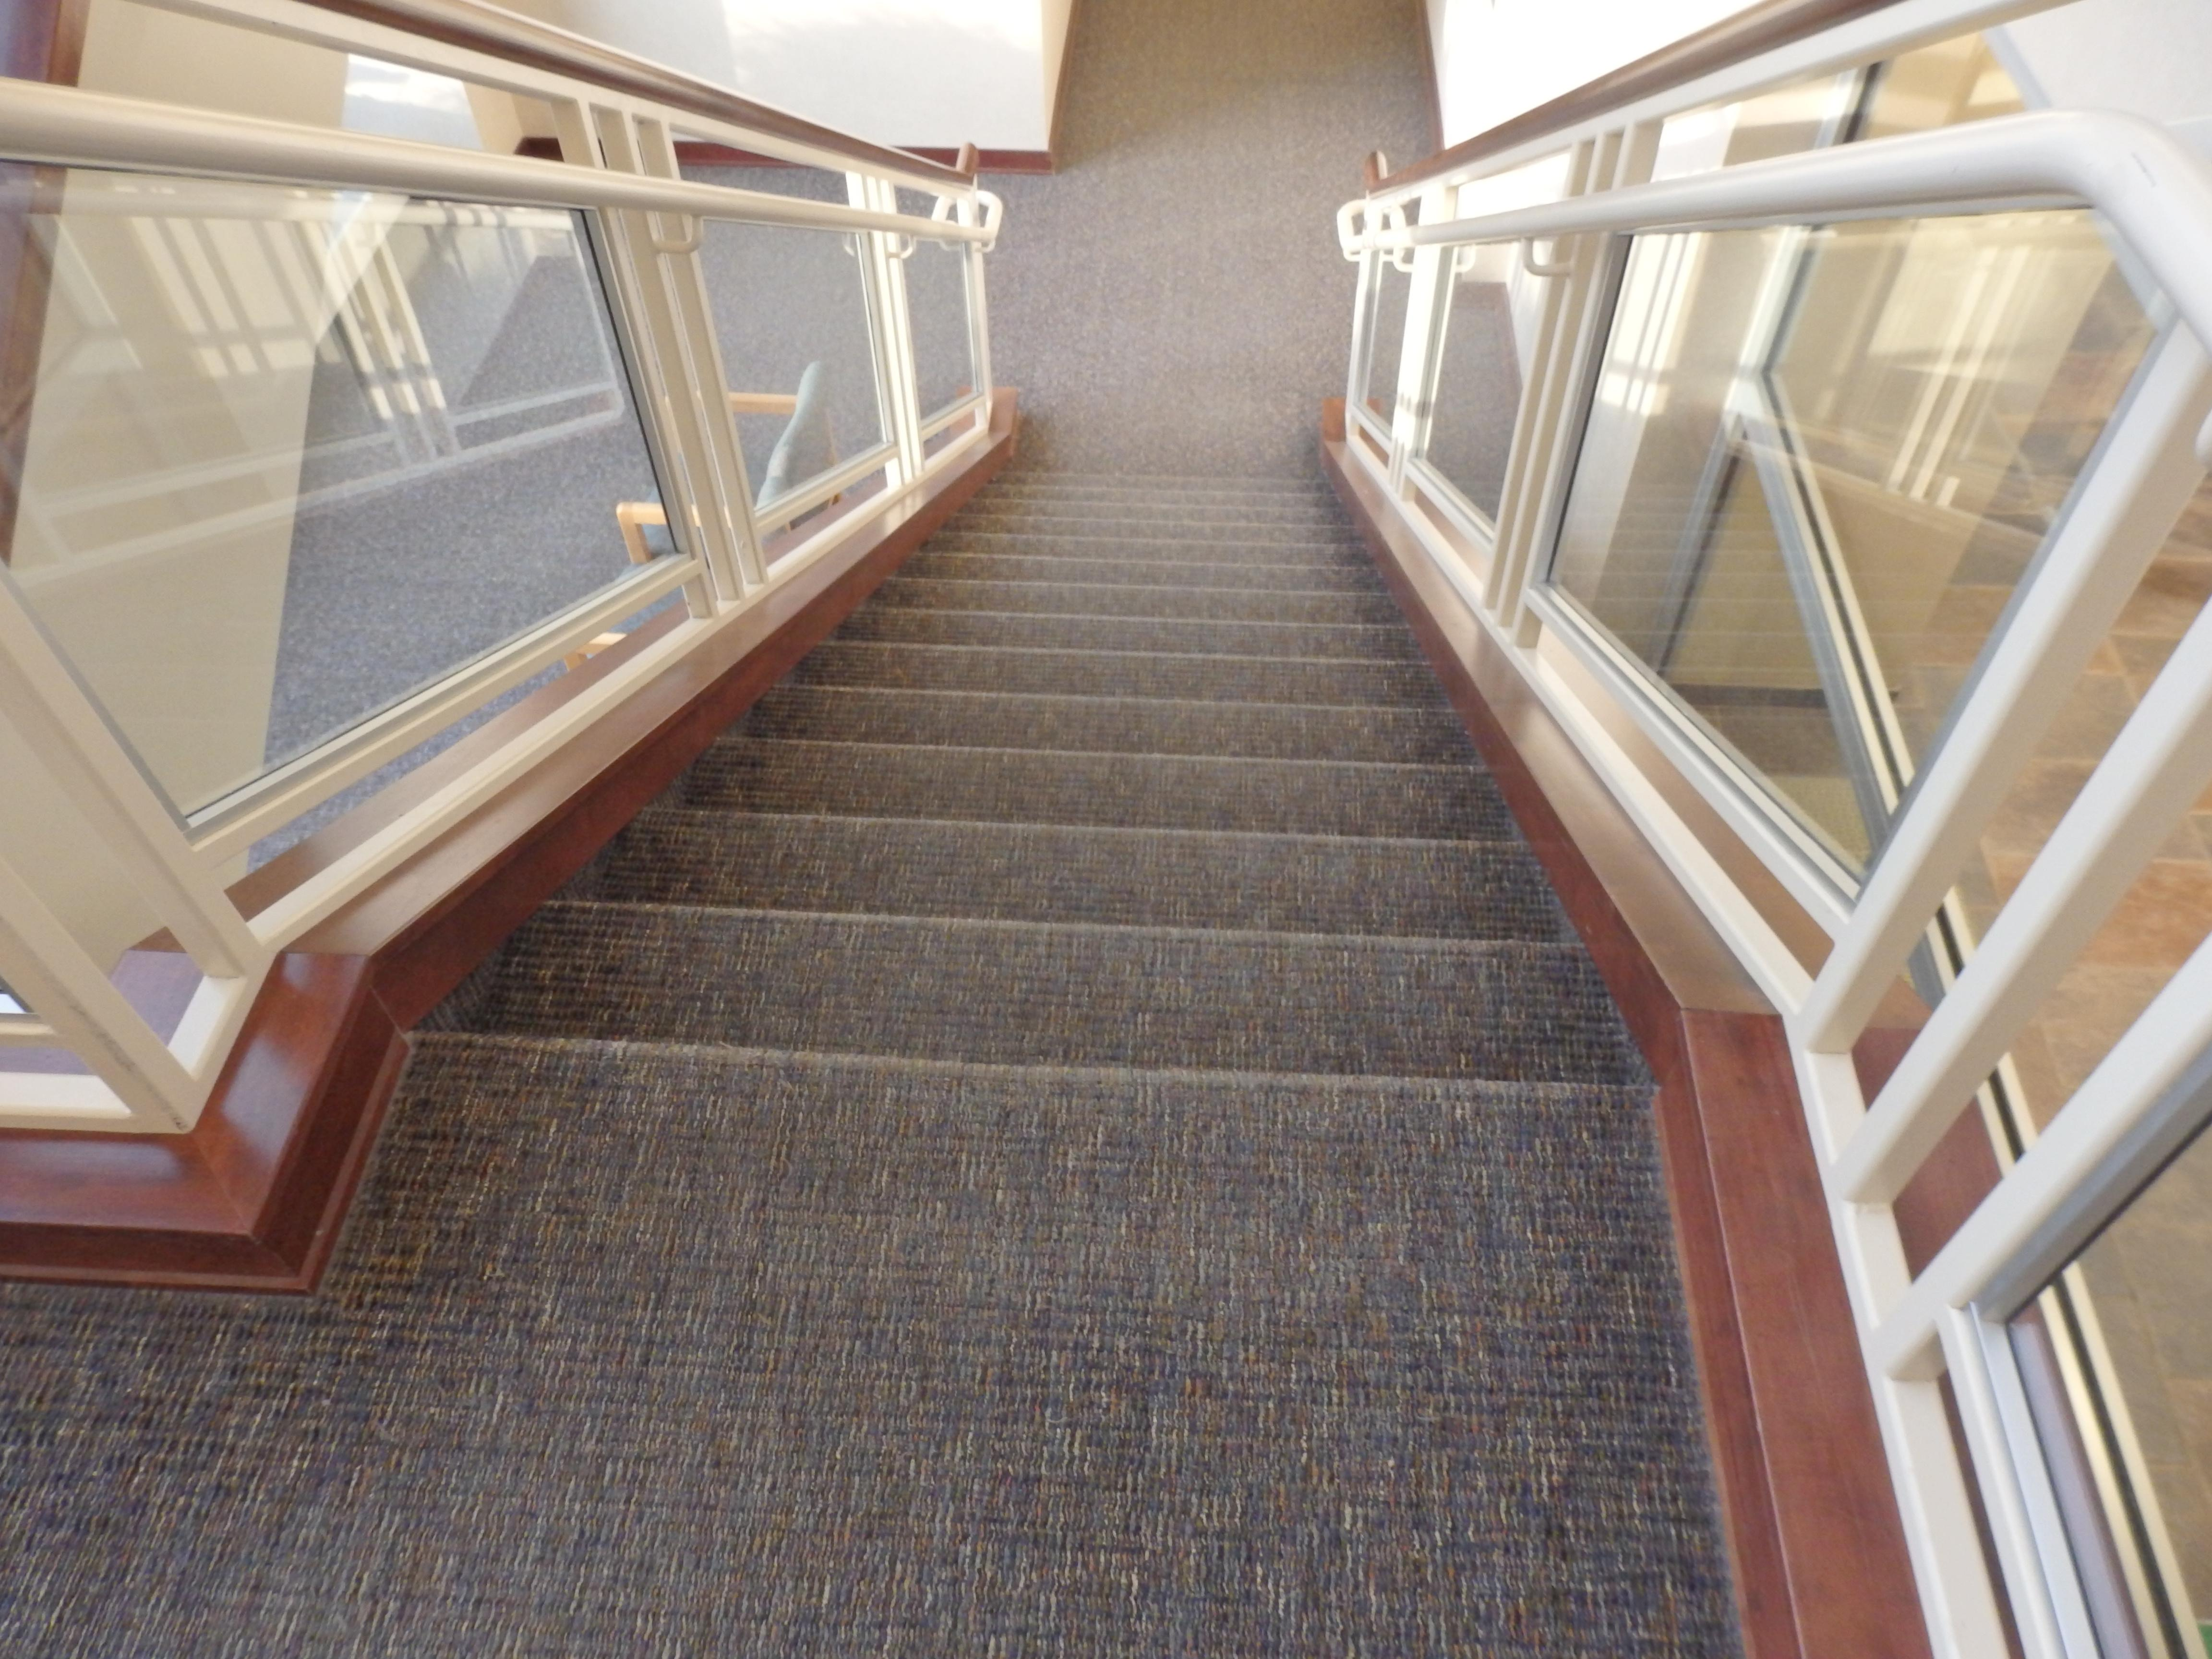stairs_down: (474, 451, 1585, 1131)
